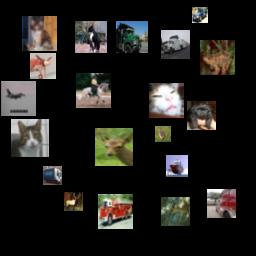airplane: (1, 81, 36, 116), (30, 53, 56, 79)
automobile: (192, 7, 208, 23)
bird: (155, 126, 171, 142)
cat: (11, 119, 49, 157), (149, 83, 184, 118), (22, 16, 57, 51), (75, 21, 107, 53)
deer: (95, 128, 133, 166), (161, 197, 190, 226), (64, 192, 83, 211)
dog: (187, 101, 216, 130)
frog: (200, 40, 235, 75)
ship: (166, 155, 188, 177)
truck: (98, 194, 133, 229), (116, 21, 148, 53), (207, 189, 236, 218), (161, 30, 190, 59), (43, 166, 62, 185)
